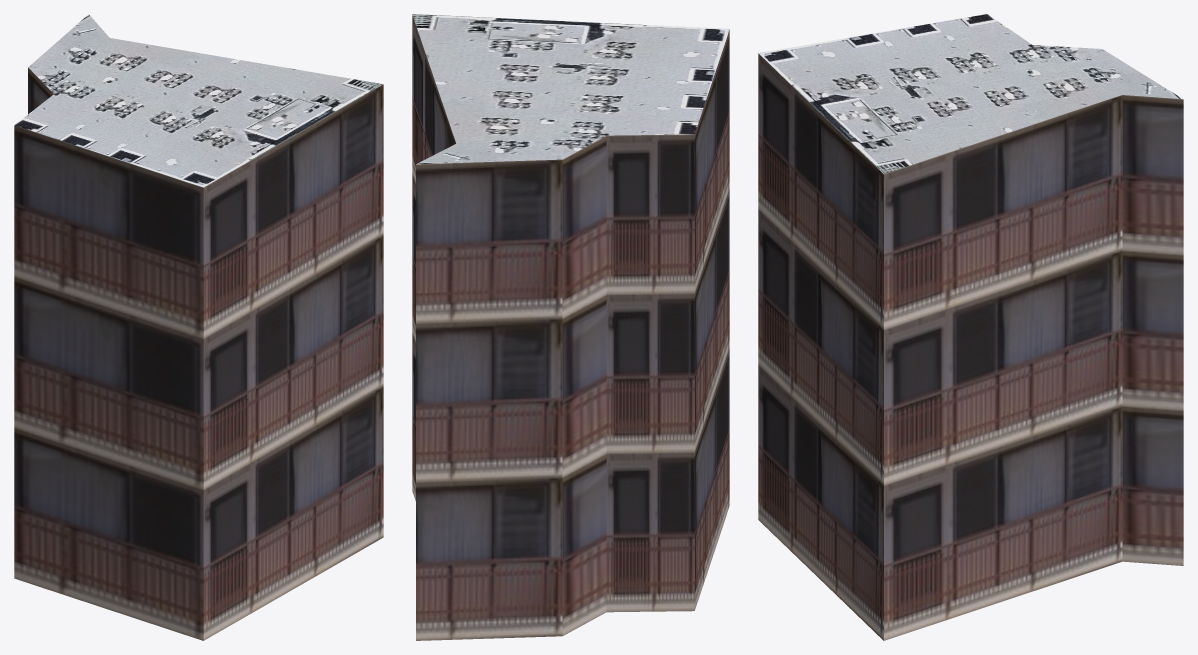
File: ResTex__2701.fbx
3 views of the same model, side by side, from view 1: azimuth 30°, elevation 25°; view 2: azimuth 150°, elevation 25°; view 3: azimuth 270°, elevation 25° (orthographic). The views are drawn at different scales.
Visible parts, largest first — view 1: CityEngineMaterial_6_m, CityEngineMaterial_4_m; view 2: CityEngineMaterial_6_m, CityEngineMaterial_4_m; view 3: CityEngineMaterial_6_m, CityEngineMaterial_4_m.
Part boxes in pixels (x1,y1,x2,y2): CityEngineMaterial_6_m: [14, 67, 383, 640]; CityEngineMaterial_4_m: [15, 14, 382, 187]; CityEngineMaterial_6_m: [412, 15, 729, 640]; CityEngineMaterial_4_m: [412, 14, 729, 164]; CityEngineMaterial_6_m: [758, 53, 1183, 640]; CityEngineMaterial_4_m: [758, 14, 1182, 173].
Size of the model in its own units: 6.63 by 9 by 7.44.
2 materials, 2 textured.
